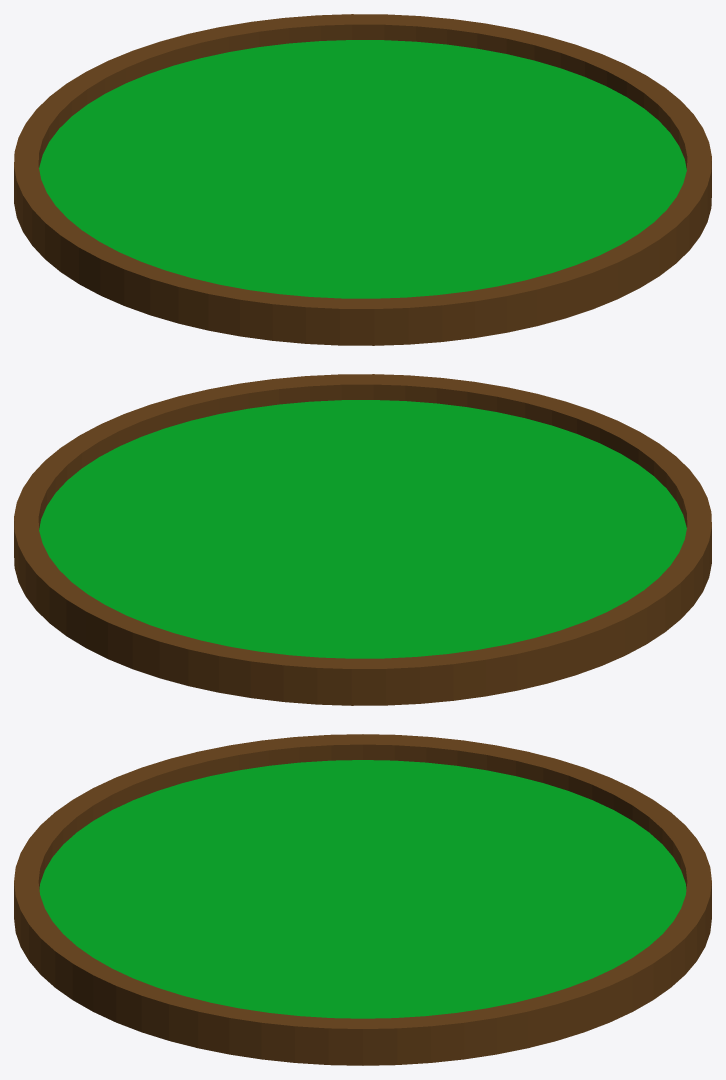
Rendered from table.fbx.
3 views of the same model, one above another, from view 1: azimuth 30°, elevation 25°; view 2: azimuth 150°, elevation 25°; view 3: azimuth 270°, elevation 25° (orthographic).
Parts seen in each view (by area): view 1: Circle; view 2: Circle; view 3: Circle.
Part boxes in pixels (left/top/right/bottom): Circle: left=14, top=14, right=711, bottom=345; Circle: left=14, top=374, right=711, bottom=705; Circle: left=14, top=734, right=711, bottom=1065.
Size of the model in its own units: 166 by 9.61 by 166.
